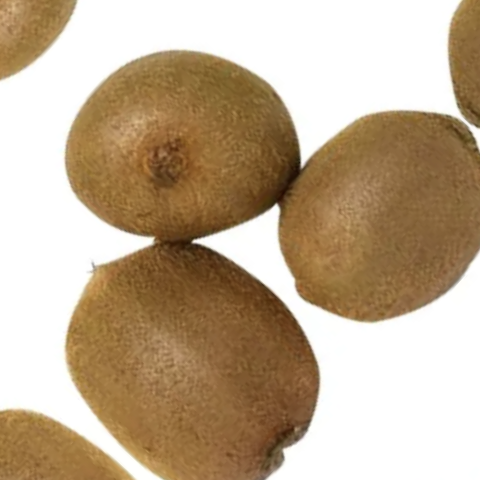kiwi: (0, 171, 390, 480), (8, 0, 362, 325), (228, 63, 480, 395)
